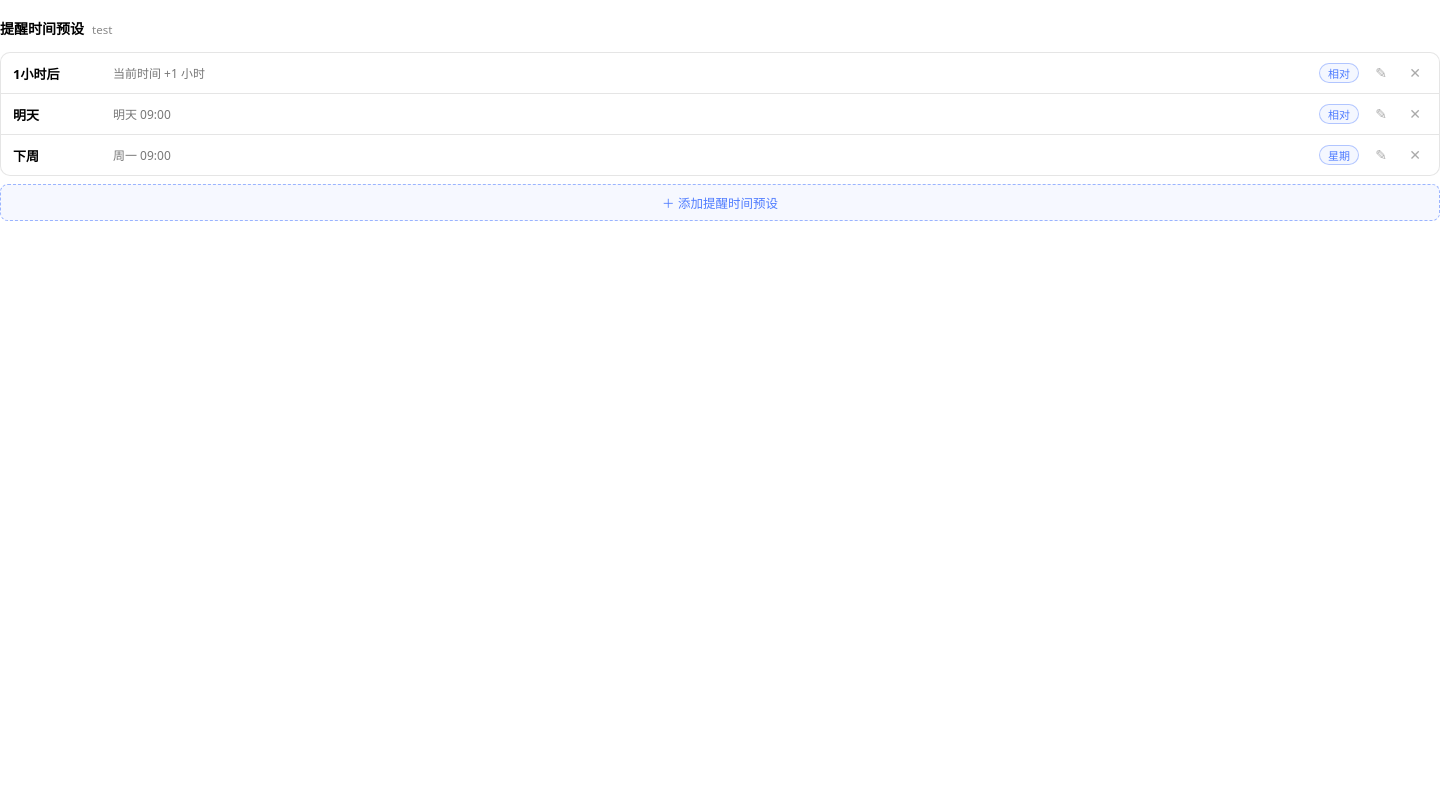
Test: TodoPresetsManager 添加/编辑 › 添加日历预设：填名称 → 保存 → 追加到列表并落库
This screenshot has width=1440, height=810.
Click the button with class "add-btn". click: (720, 202)
box: [0,184,1439,221]
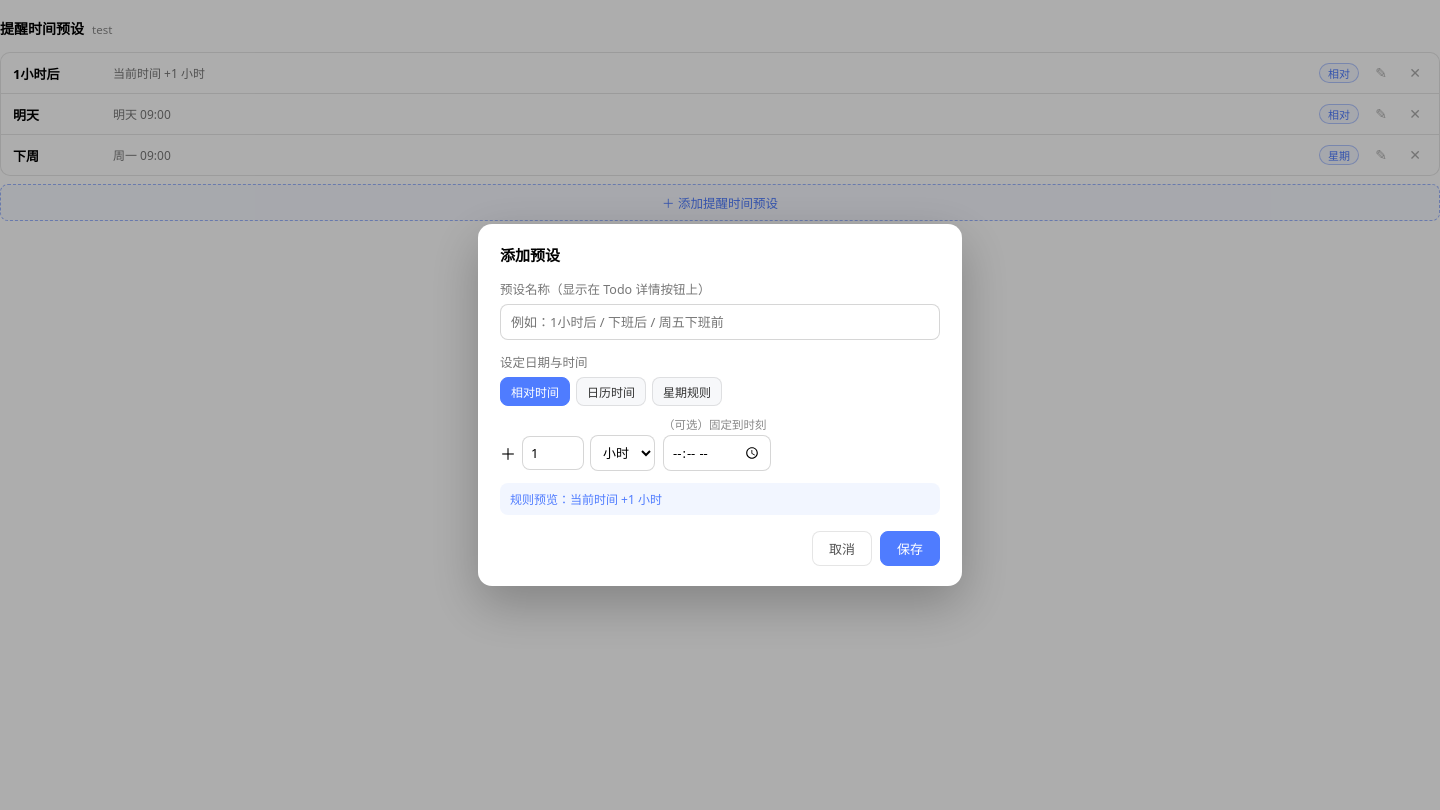
Expected: the element with class "overlay" is shown
Type "圣诞提醒" into the field with placeholder "例如：1小时后 / 下班后 / 周五下班前". click: (720, 322)
box: [500,304,940,340]
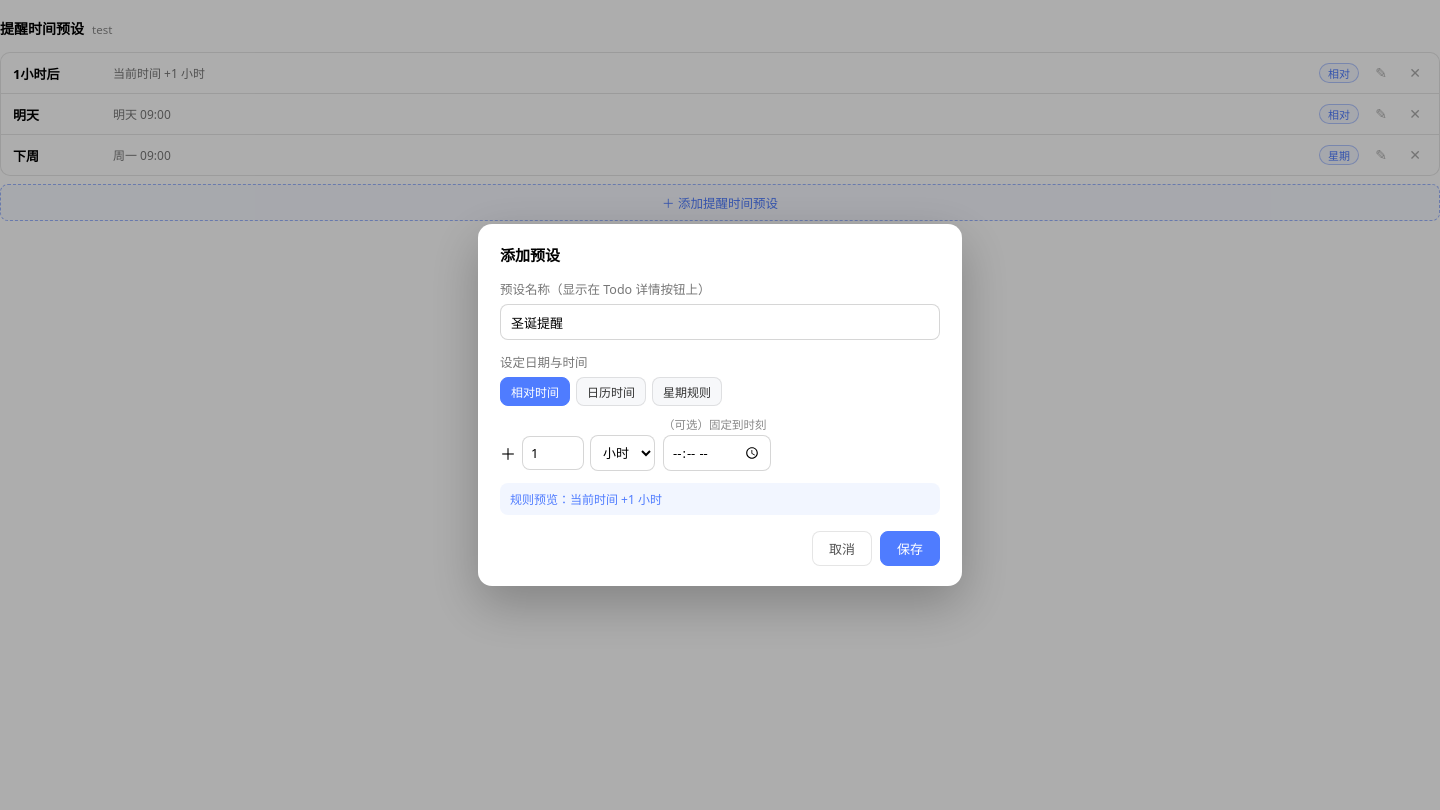
Click the button "日历时间". click: (611, 392)
box: [576,377,646,406]
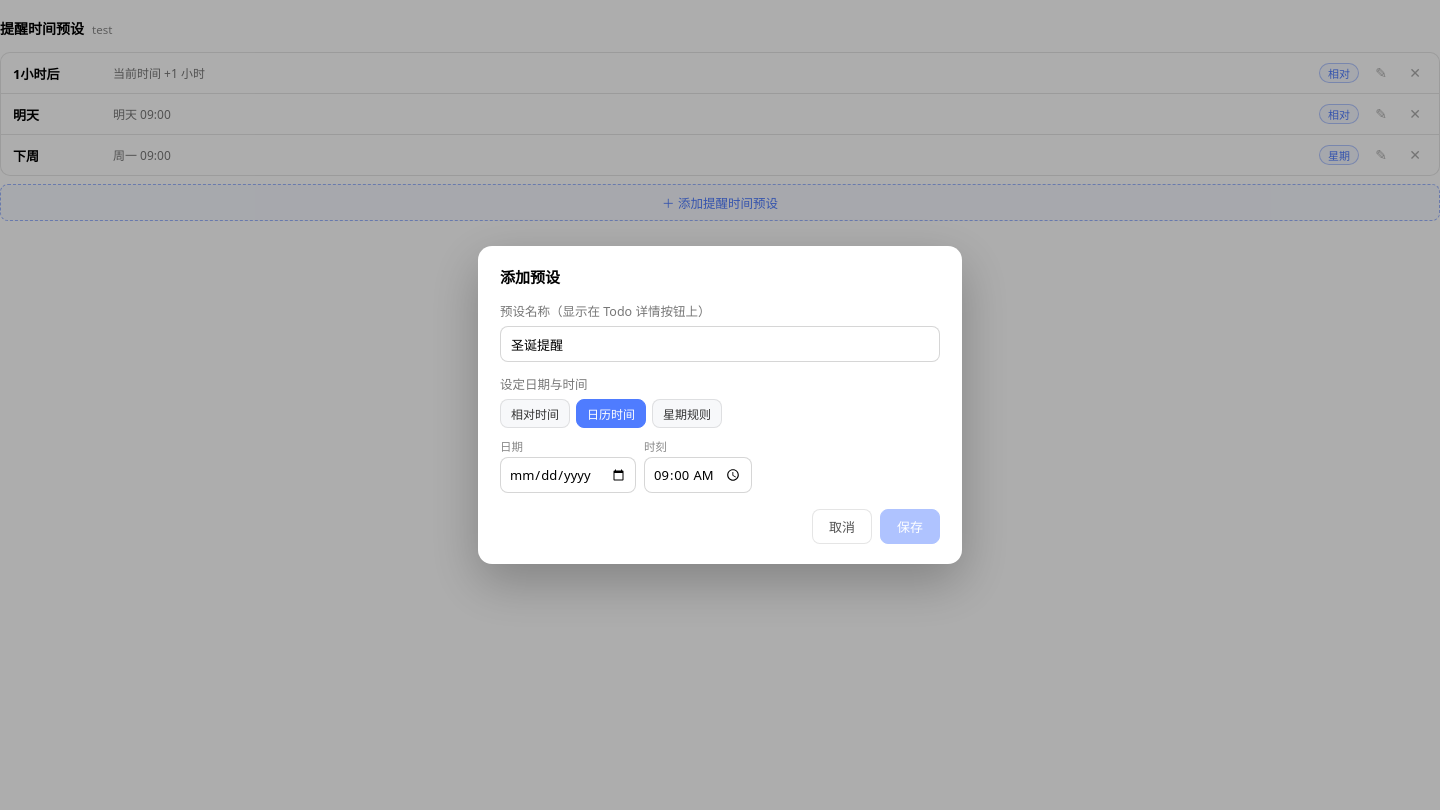
Type "2026-12-25" into the date field. click: (568, 475)
box: [500,457,636,493]
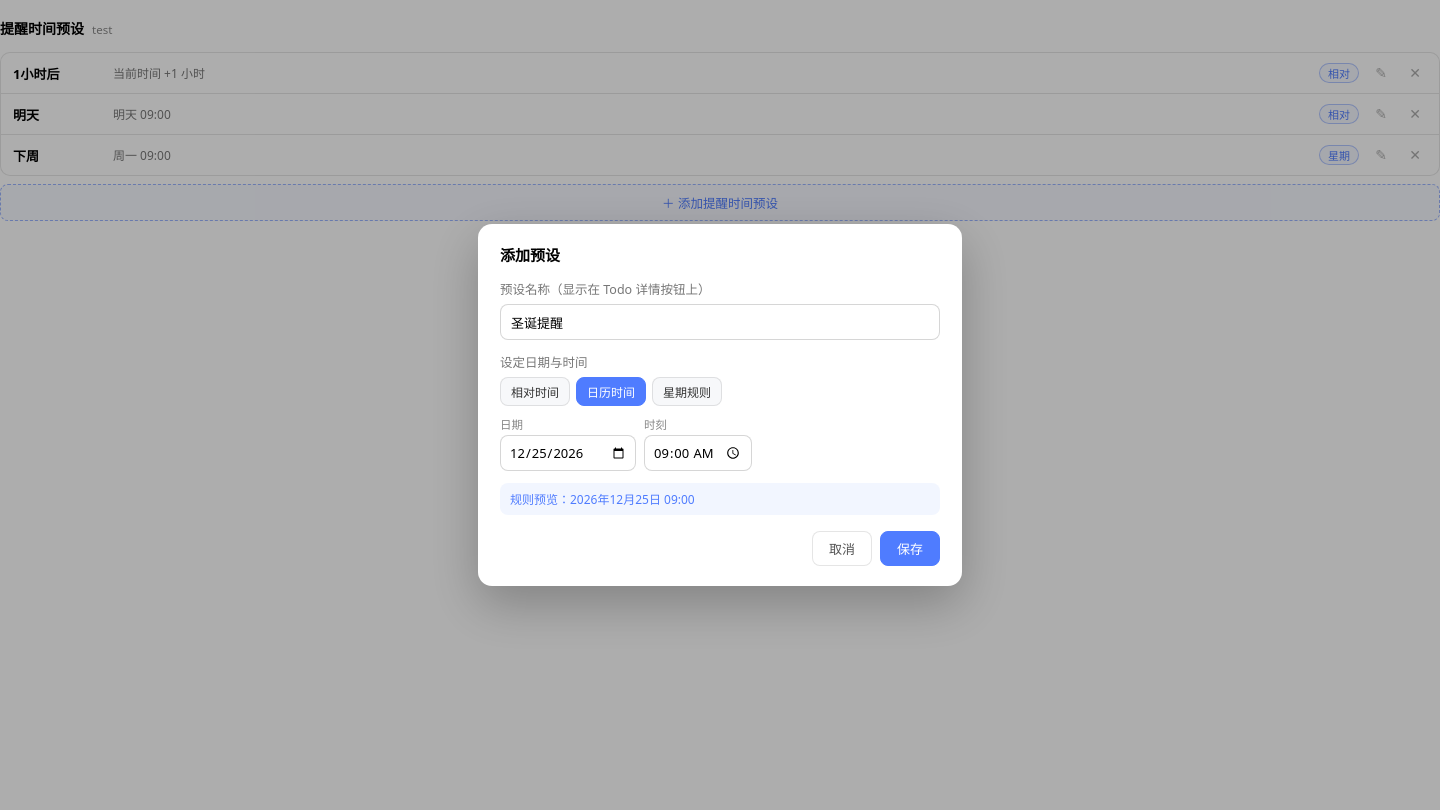
Replace the text in the time field with "08:30". click: (698, 453)
box: [644,435,752,471]
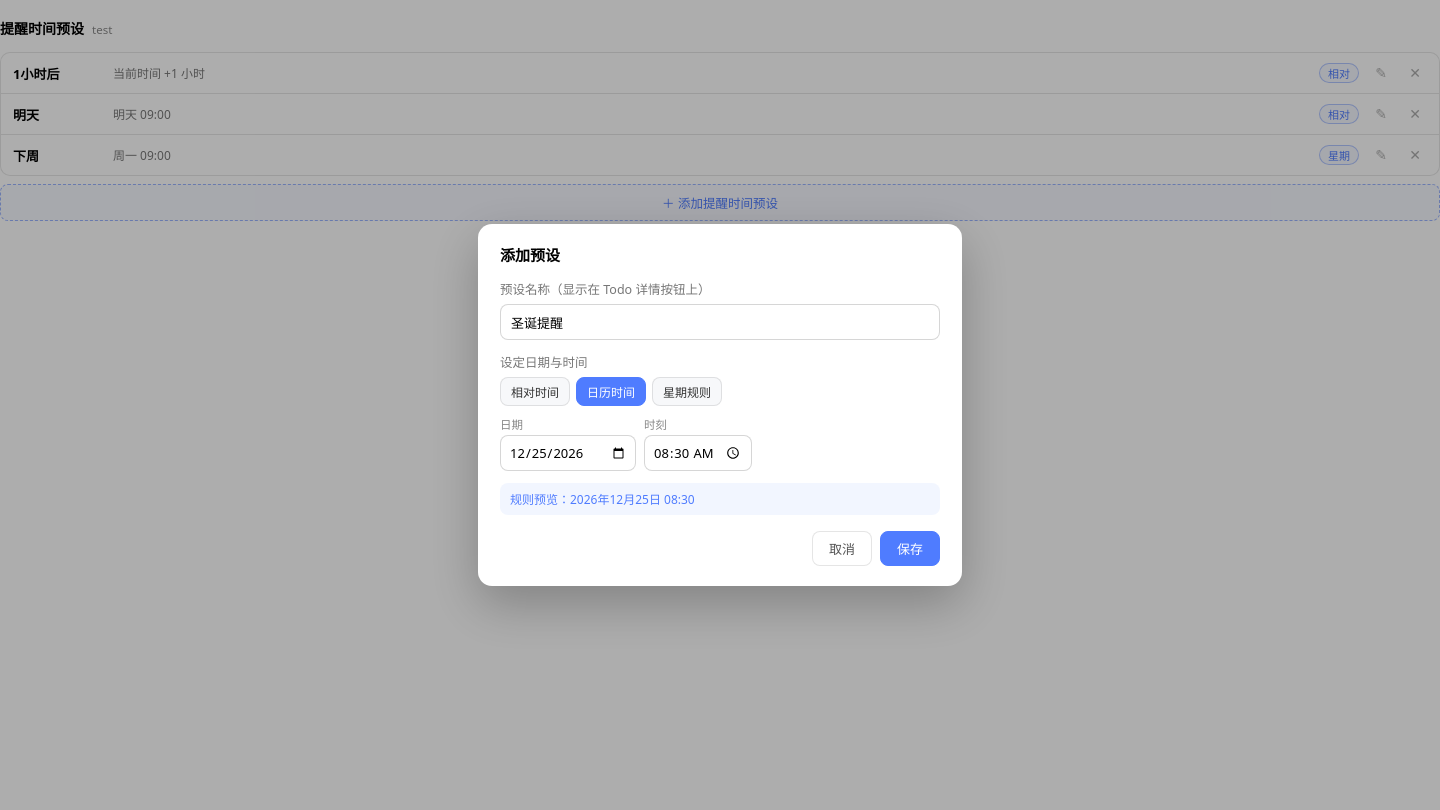
Click the button with class "btn-save". click: (910, 548)
box: [880,531,940,566]
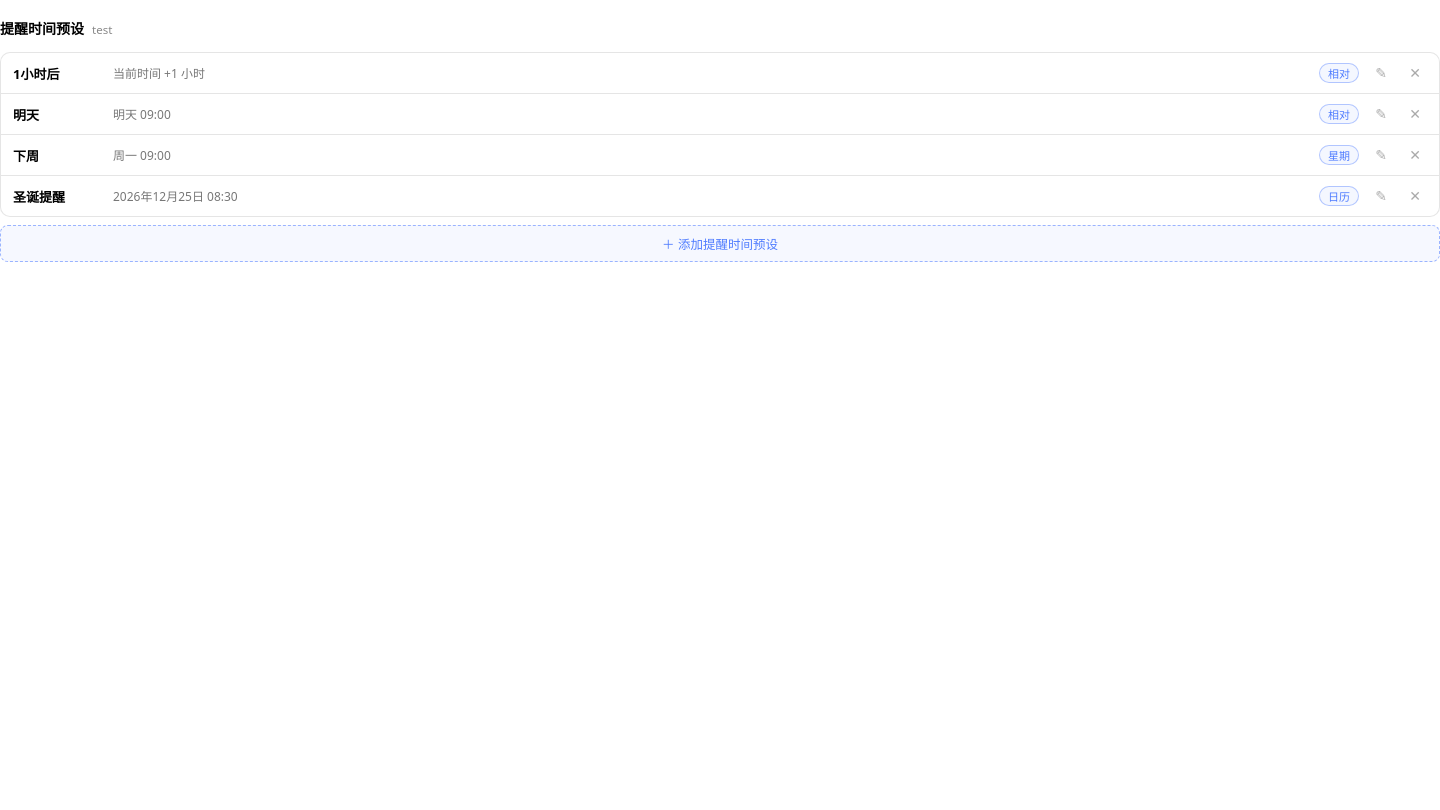
Expected: the text "圣诞提醒" is shown, [13,188,65,206]
